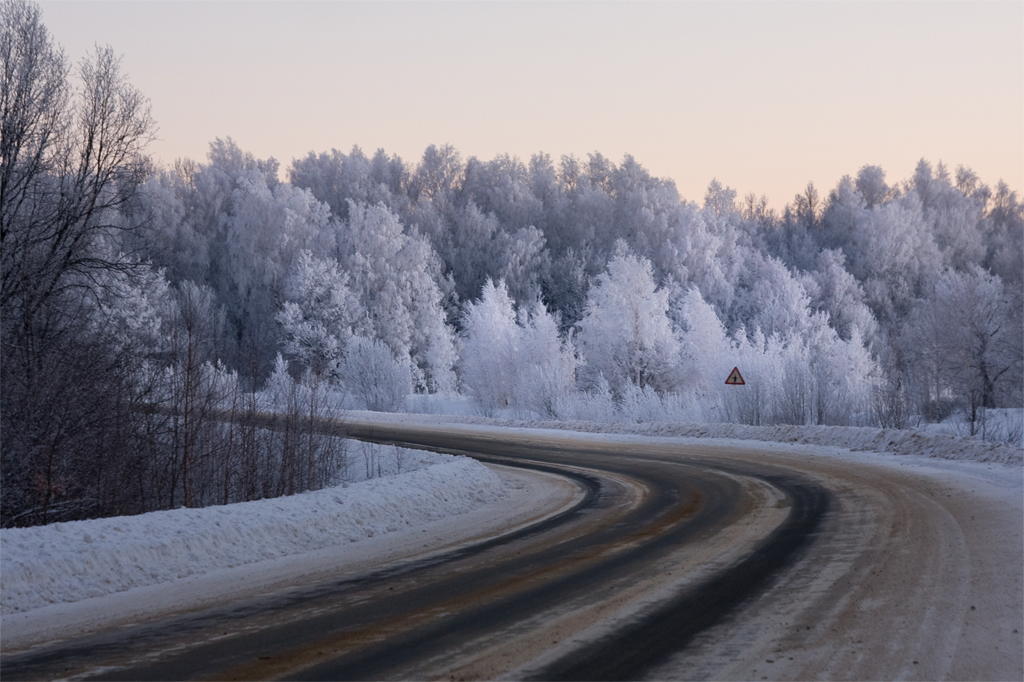sign: (724, 366, 747, 388)
